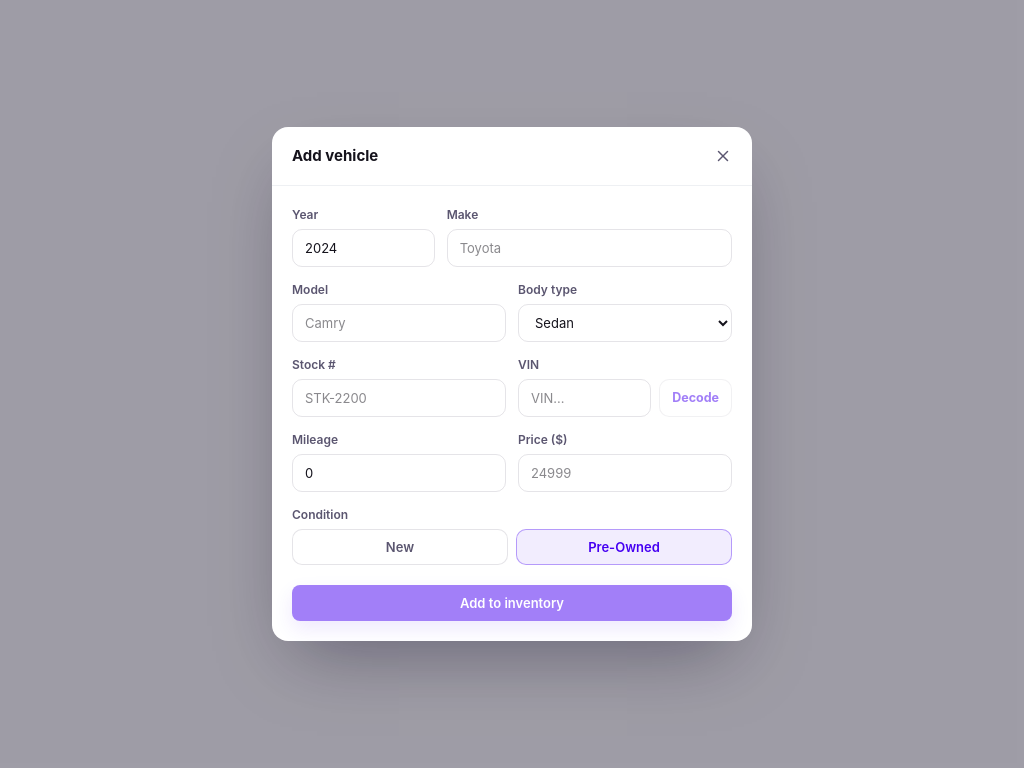
it: AddVehicleModal — VIN decode › auto-fills year, make, model, and body type on a successful decode
In the field with placeholder "VIN...": [585, 398] box x1=518 y1=379 x2=651 y2=417, type "1HGCM82633A004352"
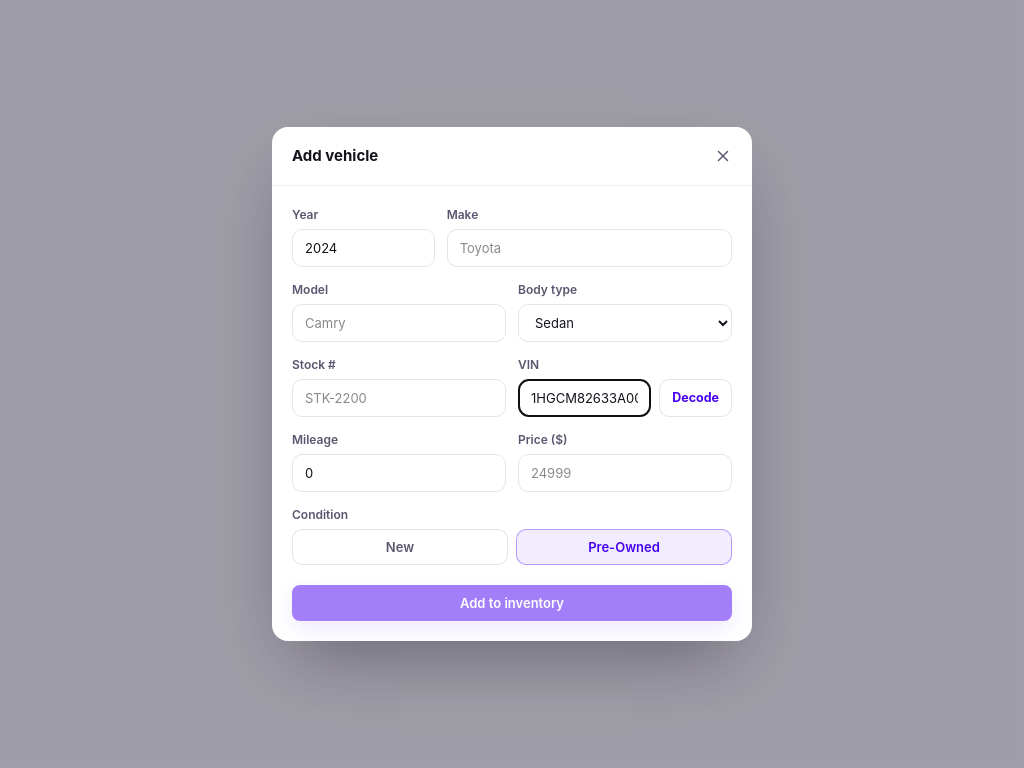
Click the button "Decode": [696, 398] box x1=659 y1=379 x2=732 y2=417
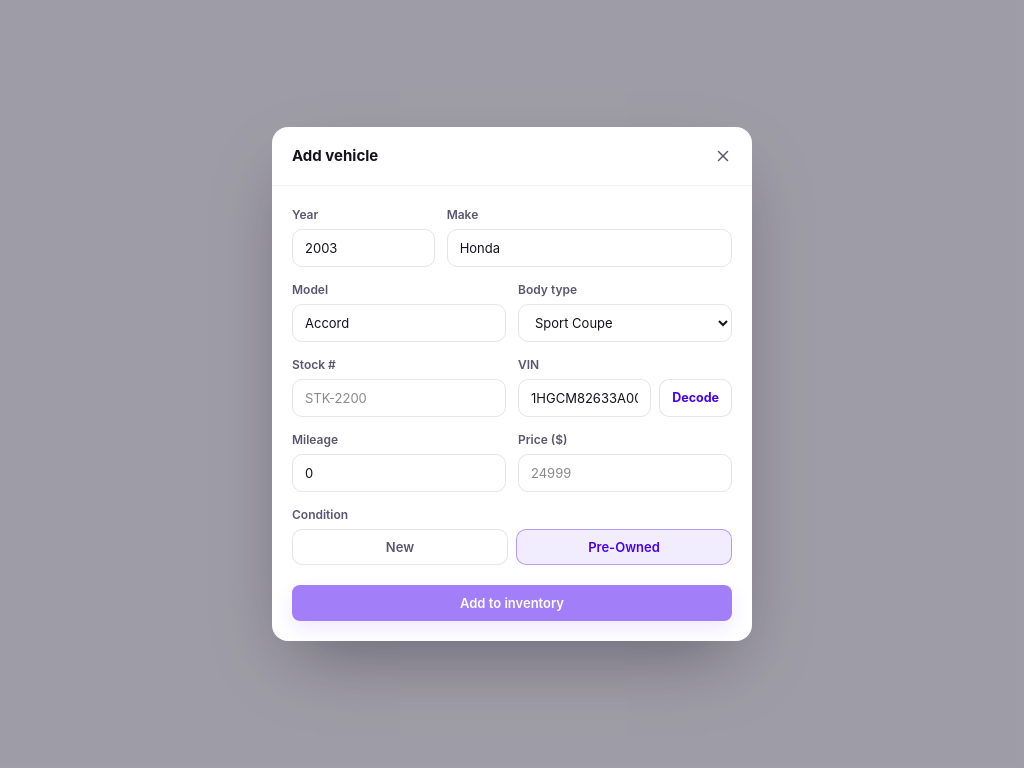
Check: the field showing "Honda" below "Make" is shown, box x1=447 y1=229 x2=732 y2=267
Check: the field showing "Accord" below "Model" is shown, box x1=292 y1=304 x2=506 y2=342
Check: the field showing "2003" below "Year" is shown, box x1=292 y1=229 x2=435 y2=267
